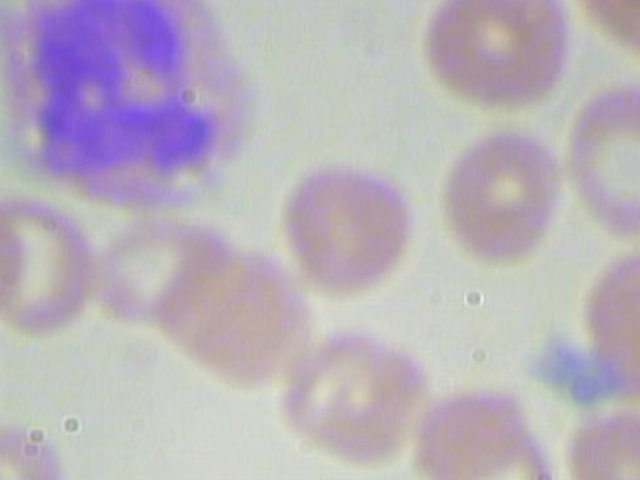WBC: (0, 0, 282, 218)
